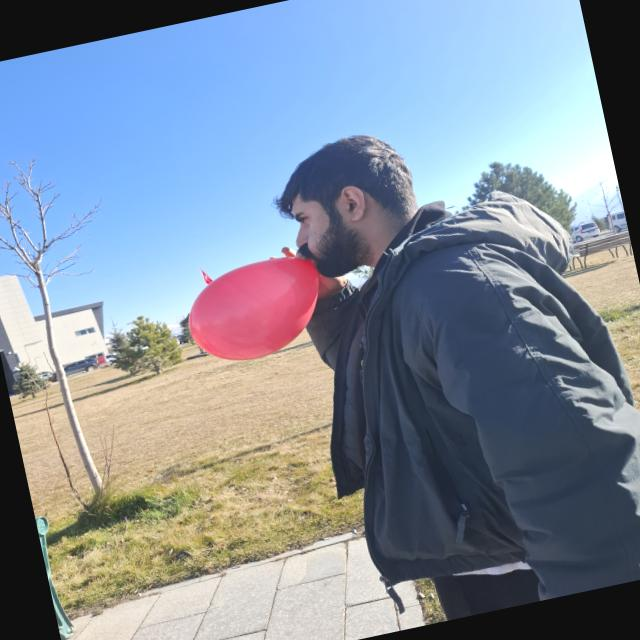balloon: (188, 257, 319, 359)
